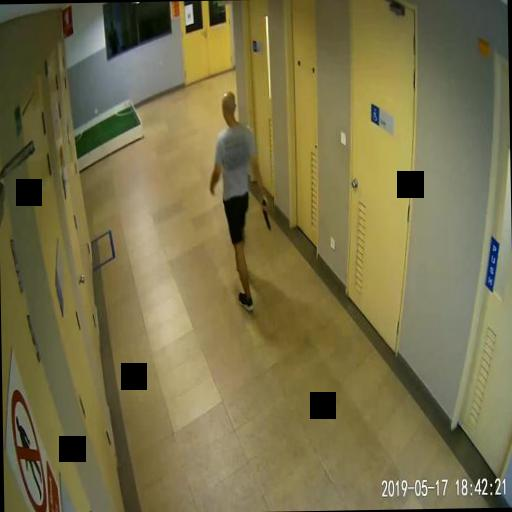Handgun: (260, 195, 270, 229)
